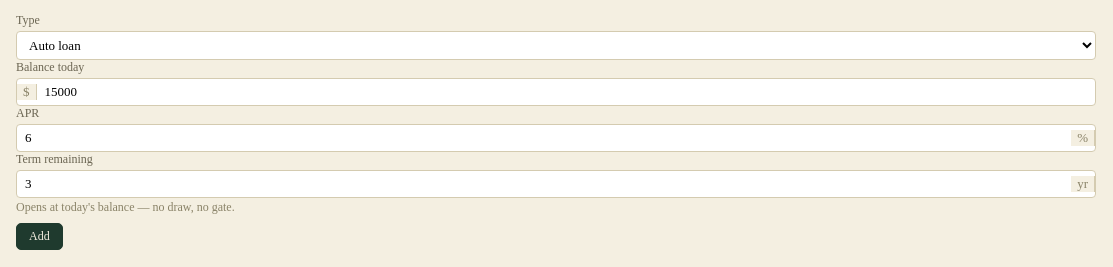
Scenario: ExistingLoanForm › drops the term field for a credit card and carries a credit limit instead
Step 1. Select "Credit card" in the dropdown labelled "Type" → (556, 46), box [16,31,1096,60]
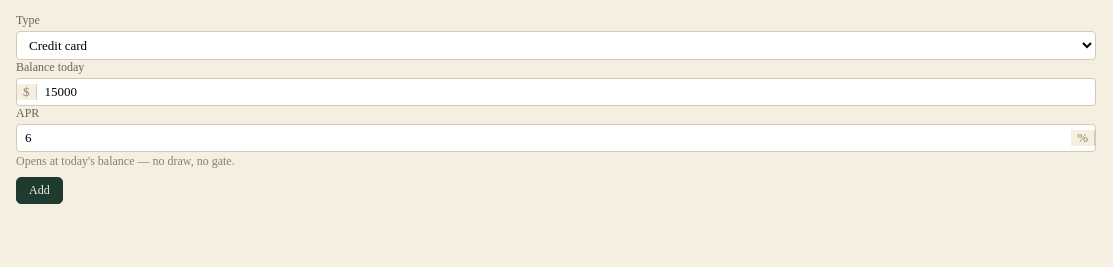
Check: the text "Term remaining" is gone
